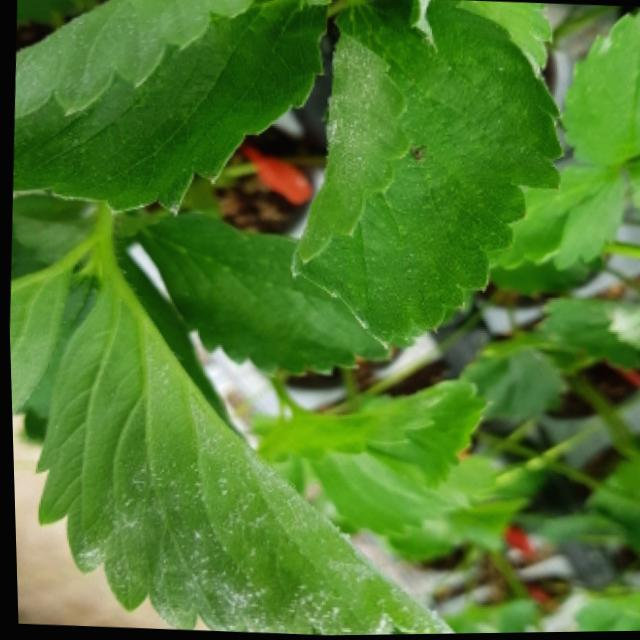Powdery Mildew Leaf: (32, 233, 451, 636), (289, 0, 563, 352), (562, 11, 640, 168)
